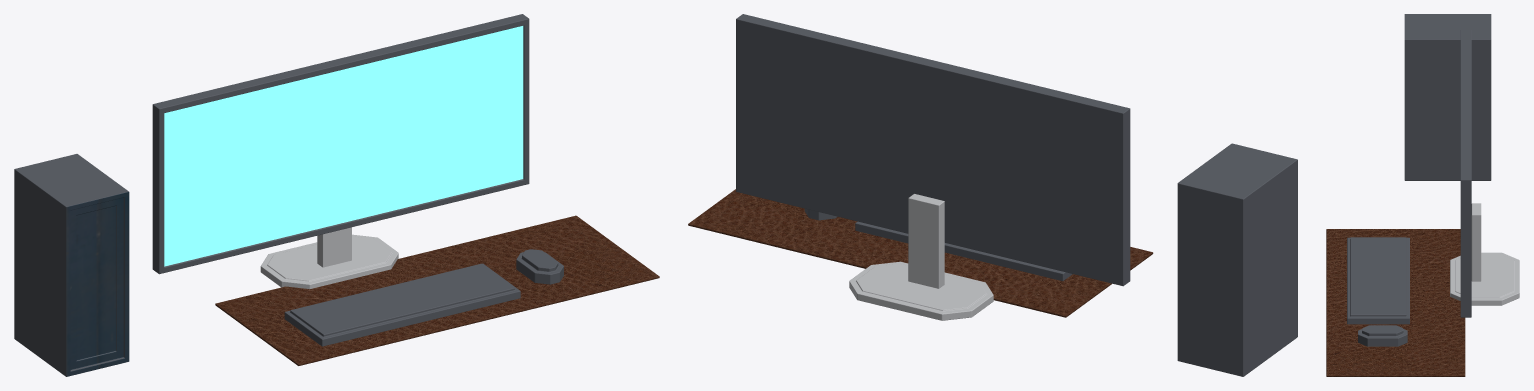
File: workstation_wide.glb
3 renders of one model, left to right at view 1: azimuth 30°, elevation 25°; view 2: azimuth 150°, elevation 25°; view 3: azimuth 270°, elevation 25°, orthographic. The views are drawn at different scales.
Visible parts, largest first — view 1: Workstation_Wide; view 2: Workstation_Wide; view 3: Workstation_Wide.
Part boxes in pixels (x1,y1,x2,y2): Workstation_Wide: (14, 14, 659, 376); Workstation_Wide: (688, 14, 1297, 376); Workstation_Wide: (1326, 14, 1519, 376).
Size of the model in its own units: 1.45 by 0.54 by 0.534.
5 materials, 2 textured.
